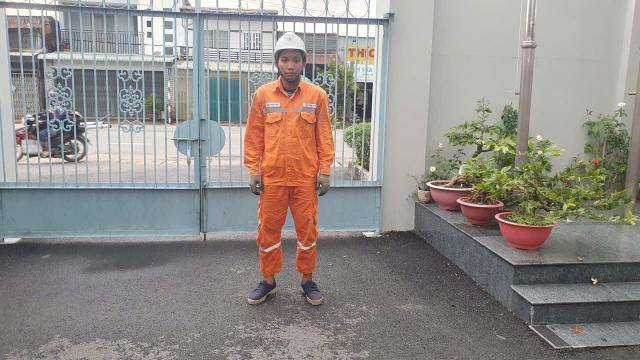gloves: (239, 167, 274, 202), (312, 167, 344, 198)
helmet: (270, 31, 312, 64)
shoes: (236, 267, 284, 307), (292, 270, 328, 307)
